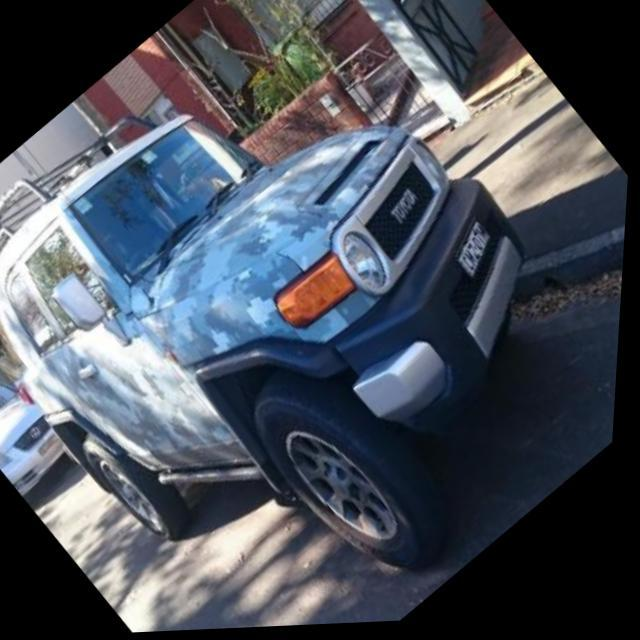license_plate: (443, 219, 512, 287), (42, 434, 66, 458)
